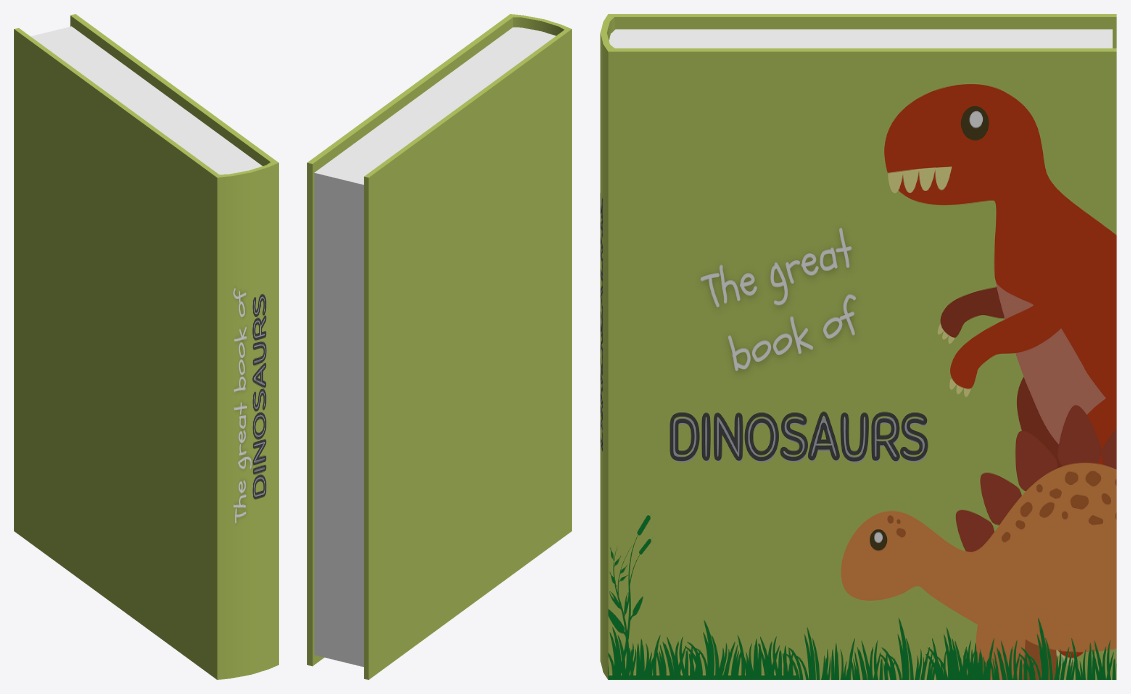
File: Book 2.fbx
3 views of the same model, side by side, from view 1: azimuth 30°, elevation 25°; view 2: azimuth 150°, elevation 25°; view 3: azimuth 270°, elevation 25° (orthographic). The views are drawn at different scales.
Visible parts, largest first — view 1: Book 2; view 2: Book 2; view 3: Book 2.
Boxes of the visible parts, left/top/right/bottom form: Book 2: left=14, top=14, right=278, bottom=679; Book 2: left=307, top=14, right=571, bottom=679; Book 2: left=600, top=14, right=1116, bottom=679.
Bounding box in the file's own units: 3.85 × 30 × 22.34.
1 material, 1 textured.
